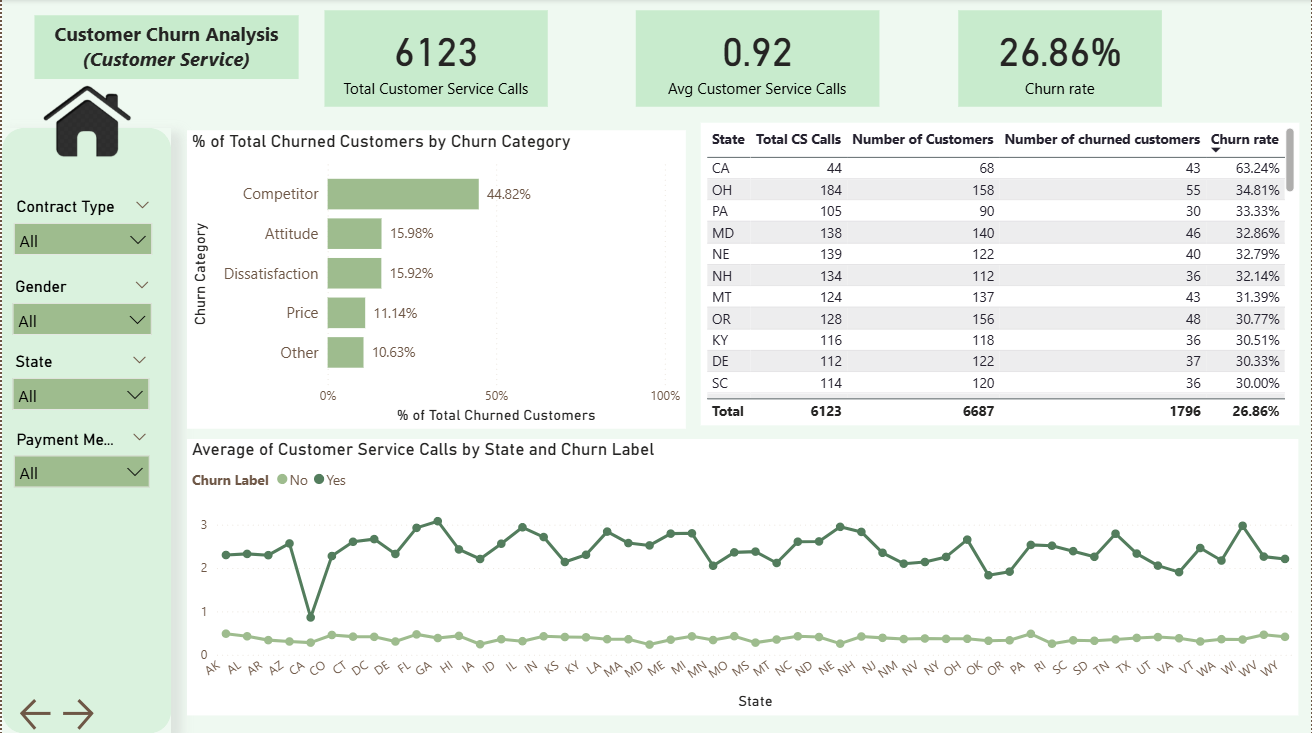

The page's visual inventory and layout, read from the dashboard file:
{"tool":"powerbi","page":{"name":"Customer Service Calls","canvas":[1280,720],"ordinal":3},"visuals":[{"type":"shape","box":[0,125.7,165.7,592.9],"z":0},{"type":"textbox","box":[31.7,15.9,258.3,37.5],"z":1000},{"type":"image","box":[32.3,61.5,103.1,107.7],"z":2000},{"type":"slicer","fields":{"Values":["Databel - Data.Contract Type"]},"box":[0,189,155.8,85.1],"z":3000},{"type":"slicer","fields":{"Values":["Databel - Data.Gender"]},"box":[0,267.8,156.5,75.8],"z":4000},{"type":"slicer","fields":{"Values":["Databel - Data.State"]},"box":[0,341.2,154.1,78.3],"z":5000},{"type":"actionButton","box":[13,679.5,47.6,40.4],"z":6000},{"type":"slicer","fields":{"Values":["Databel - Data.Payment Method"]},"box":[1.2,417,152.9,80.7],"z":7000},{"type":"card","fields":{"Values":["Sum(Databel - Data.Customer Service Calls)"]},"box":[327.5,11.5,217.9,93.8],"z":8000},{"type":"card","fields":{"Values":["Avg(Databel - Data.Customer Service Calls)"]},"box":[620,11,238.5,94.2],"z":9000},{"type":"card","fields":{"Values":["_Measures.Churn rate"]},"box":[935.5,11,199.3,94.2],"z":10000},{"type":"lineChart","fields":{"Category":["Databel - Data.State"],"Series":["Databel - Data.Churn Label"],"Y":["Avg(Databel - Data.Customer Service Calls)"]},"box":[181.4,430,1087.1,270],"z":11000},{"type":"tableEx","fields":{"Values":["Databel - Data.State","Sum(Databel - Data.Customer Service Calls)","_Measures.Number of Customers","_Measures.Number of churned customers","_Measures.Churn rate"]},"box":[683.6,121.1,585.7,295.9],"z":12000},{"type":"clusteredBarChart","fields":{"Category":["Databel - Data.Churn Category"],"Y":["_Measures.% of Total Churned Customers"]},"box":[181.5,128.1,487.7,291.9],"z":13000},{"type":"actionButton","box":[53.4,679.5,49.1,40.4],"z":14000},{"type":"slicer","fields":{"Values":["Databel - Data.Age (bins)"]},"box":[2.9,493.4,152.9,72.1],"z":14001}]}

Visuals, with their boxes in screenshot pixels (x1, y1, x2, y2), scaled from the page's 1280x720 canvas onto the 1312x733 screenshot:
shape: locate(0, 128, 170, 732)
textbox: locate(32, 16, 297, 54)
image: locate(33, 63, 139, 172)
slicer - Databel - Data.Contract Type: locate(0, 192, 160, 279)
slicer - Databel - Data.Gender: locate(0, 273, 160, 350)
slicer - Databel - Data.State: locate(0, 347, 158, 427)
actionButton: locate(13, 692, 62, 732)
slicer - Databel - Data.Payment Method: locate(1, 425, 158, 507)
card - Sum(Databel - Data.Customer Service Calls): locate(336, 12, 559, 107)
card - Avg(Databel - Data.Customer Service Calls): locate(636, 11, 880, 107)
card - _Measures.Churn rate: locate(959, 11, 1163, 107)
lineChart - Databel - Data.State x Databel - Data.Churn Label: locate(186, 438, 1300, 713)
tableEx - Databel - Data.State x Sum(Databel - Data.Customer Service Calls): locate(701, 123, 1301, 425)
clusteredBarChart - Databel - Data.Churn Category x _Measures.% of Total Churned Customers: locate(186, 130, 686, 428)
actionButton: locate(55, 692, 105, 732)
slicer - Databel - Data.Age (bins): locate(3, 502, 160, 576)
